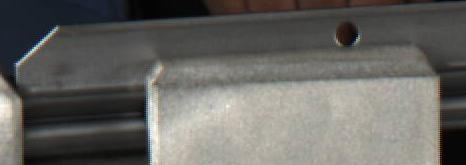cut: (16, 21, 129, 157)
holes: (335, 17, 359, 46)
